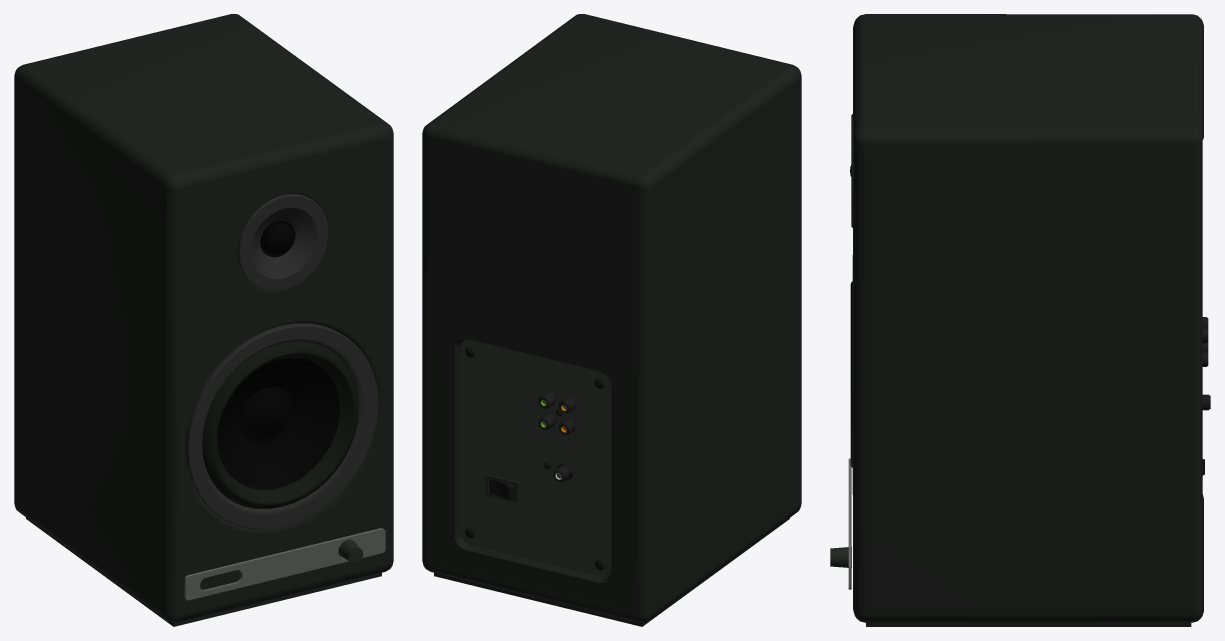
Rendered from speaker.fbx.
3 views of the same model, side by side, from view 1: azimuth 30°, elevation 25°; view 2: azimuth 150°, elevation 25°; view 3: azimuth 270°, elevation 25° (orthographic). The views are drawn at different scales.
Parts seen in each view (by area): view 1: node_id30; view 2: node_id30; view 3: node_id30.
Part boxes in pixels (box(x1,y1,x2,y2)): node_id30: box(14, 14, 393, 626); node_id30: box(422, 14, 801, 626); node_id30: box(830, 14, 1210, 626).
Bounding box in the file's own units: 0.2704 × 0.512 × 0.3531.
1 material, 1 textured.
